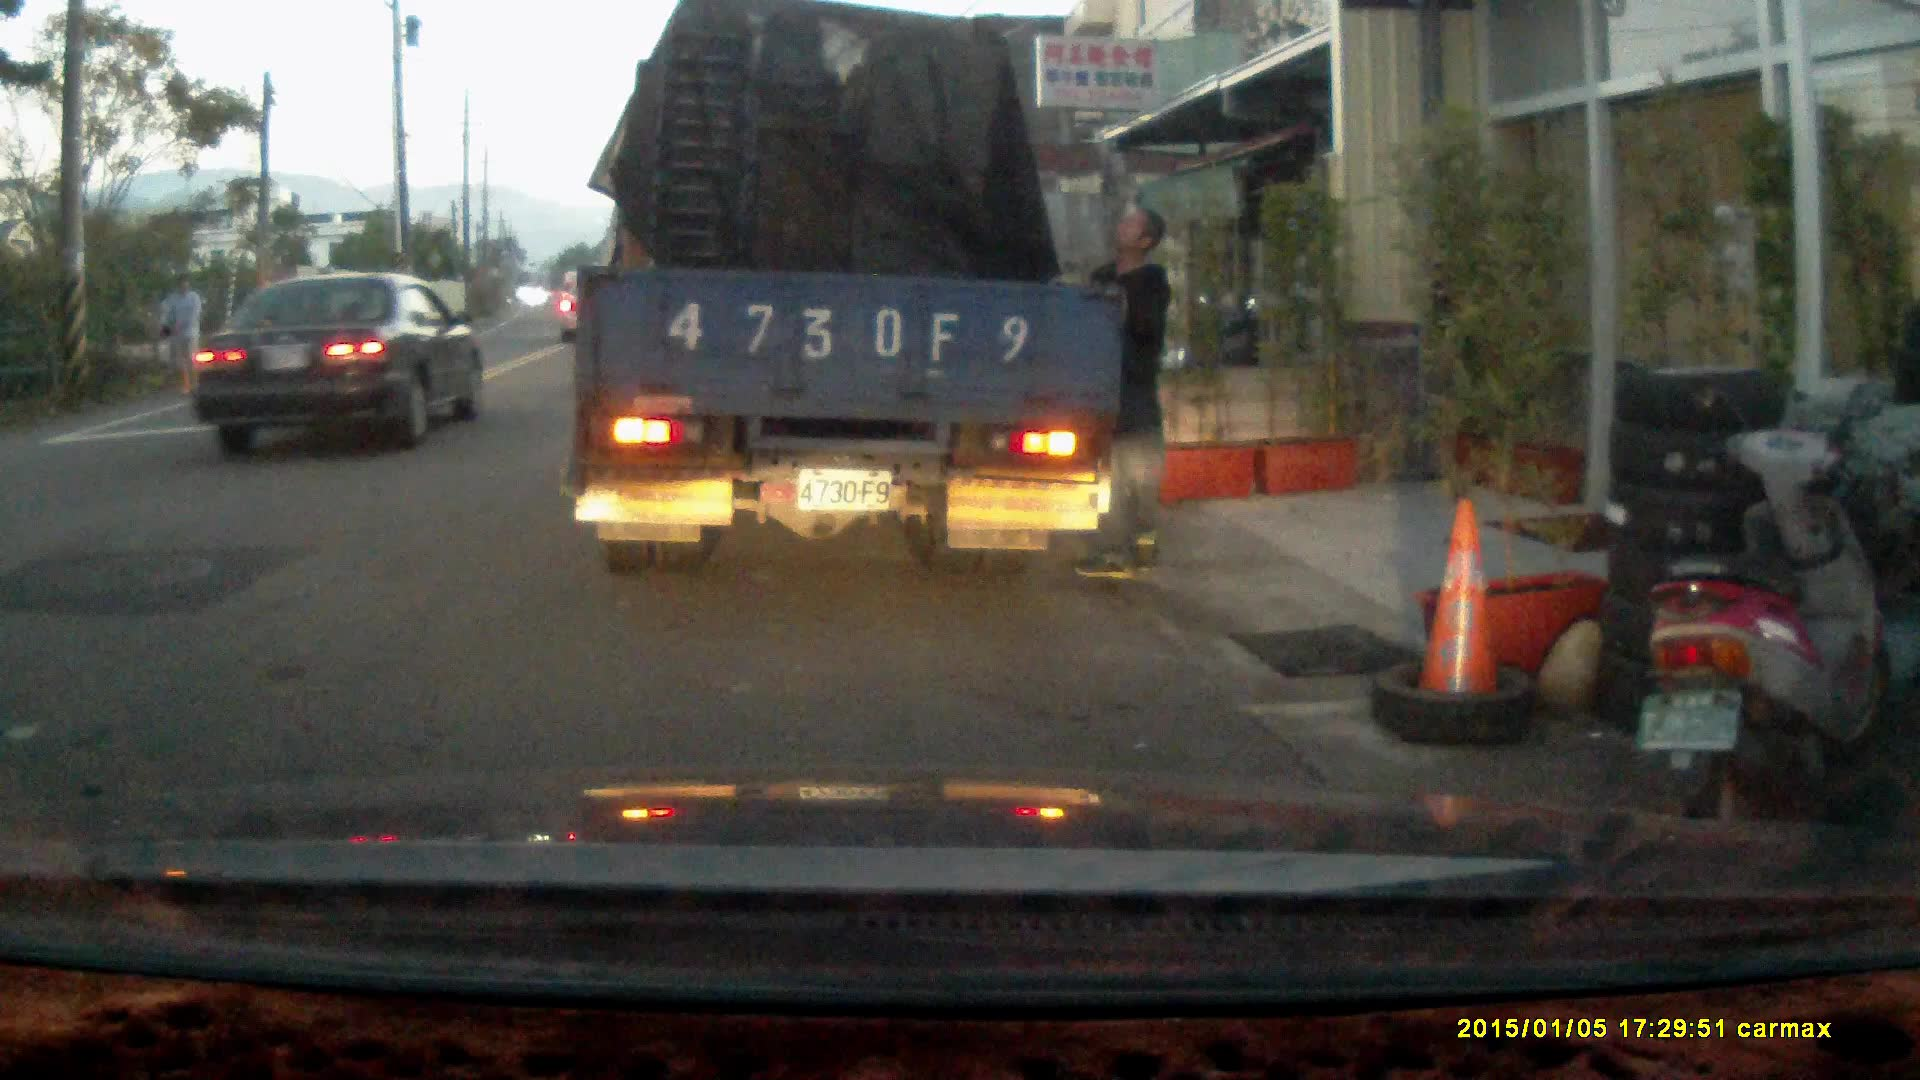pedestrian: (1058, 201, 1172, 581), (160, 271, 206, 399)
vehicle: (573, 23, 1114, 572), (182, 270, 484, 459)
